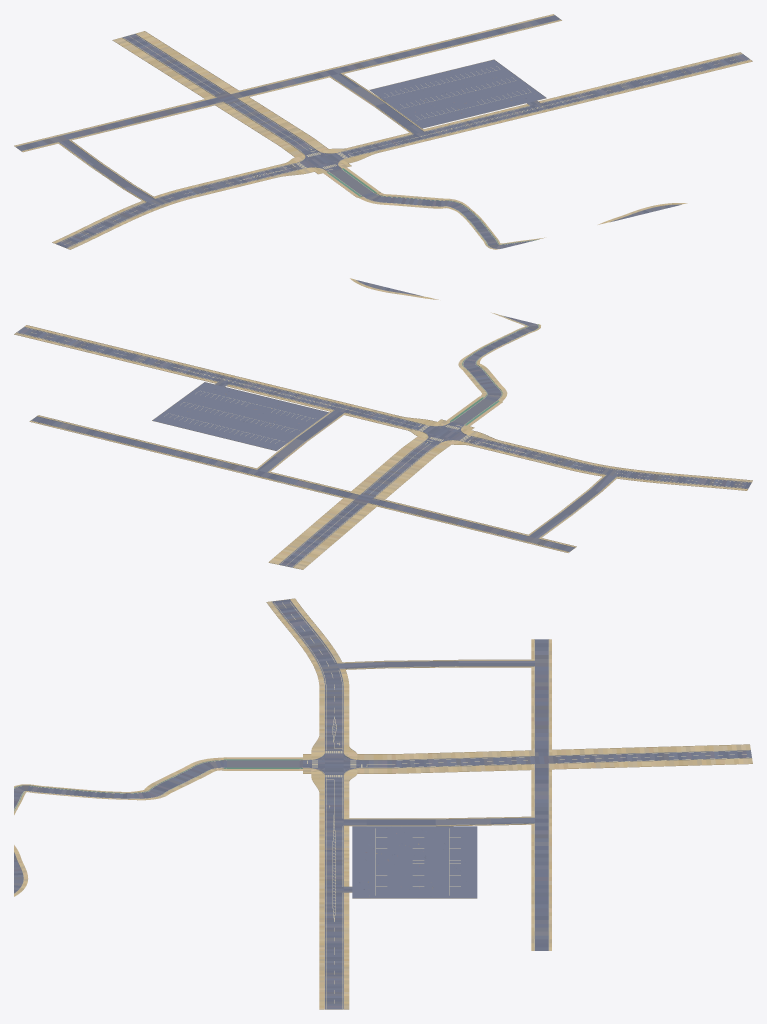
File: ART_KyobashiRoads.lod.glb
The picture shows the model from 3 angles, top to bottom: view 1: azimuth 30°, elevation 25°; view 2: azimuth 150°, elevation 25°; view 3: azimuth 270°, elevation 25°; orthographic projection. The views are drawn at different scales.
Visible parts, largest first — view 1: ART_KyobashiRoads; view 2: ART_KyobashiRoads; view 3: ART_KyobashiRoads.
Boxes of the visible parts, left/top/right/bottom form: ART_KyobashiRoads: left=14, top=14, right=752, bottom=249; ART_KyobashiRoads: left=14, top=278, right=752, bottom=569; ART_KyobashiRoads: left=14, top=598, right=752, bottom=1009.
Size of the model in its own units: 422 by 0.1965 by 321.
